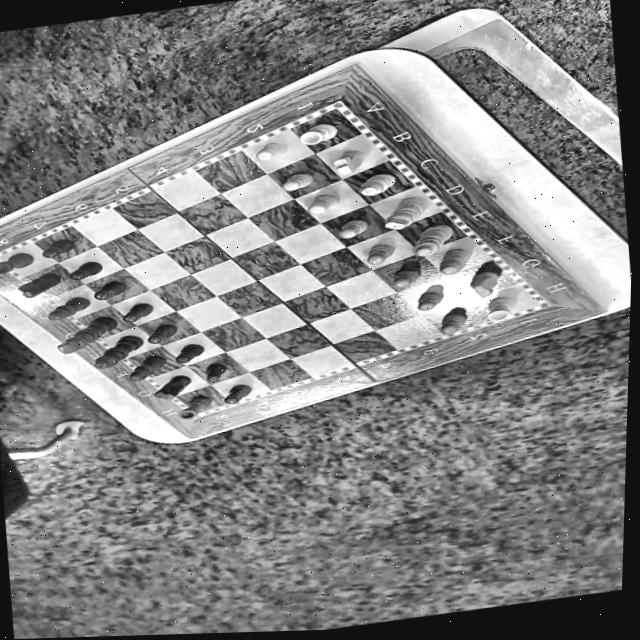chessboard: (0, 109, 538, 415)
